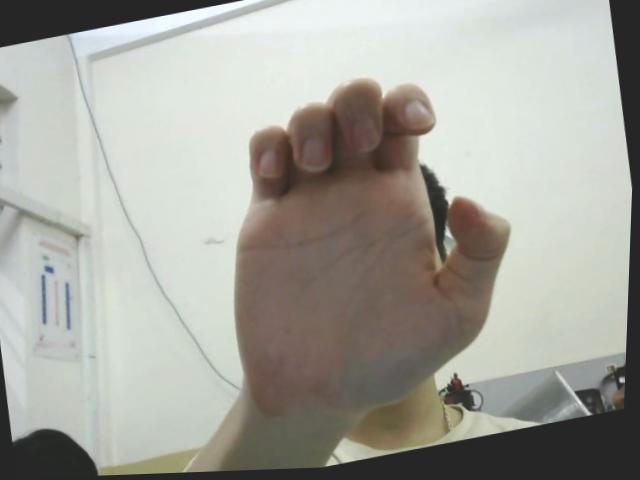E: (197, 52, 540, 427)
